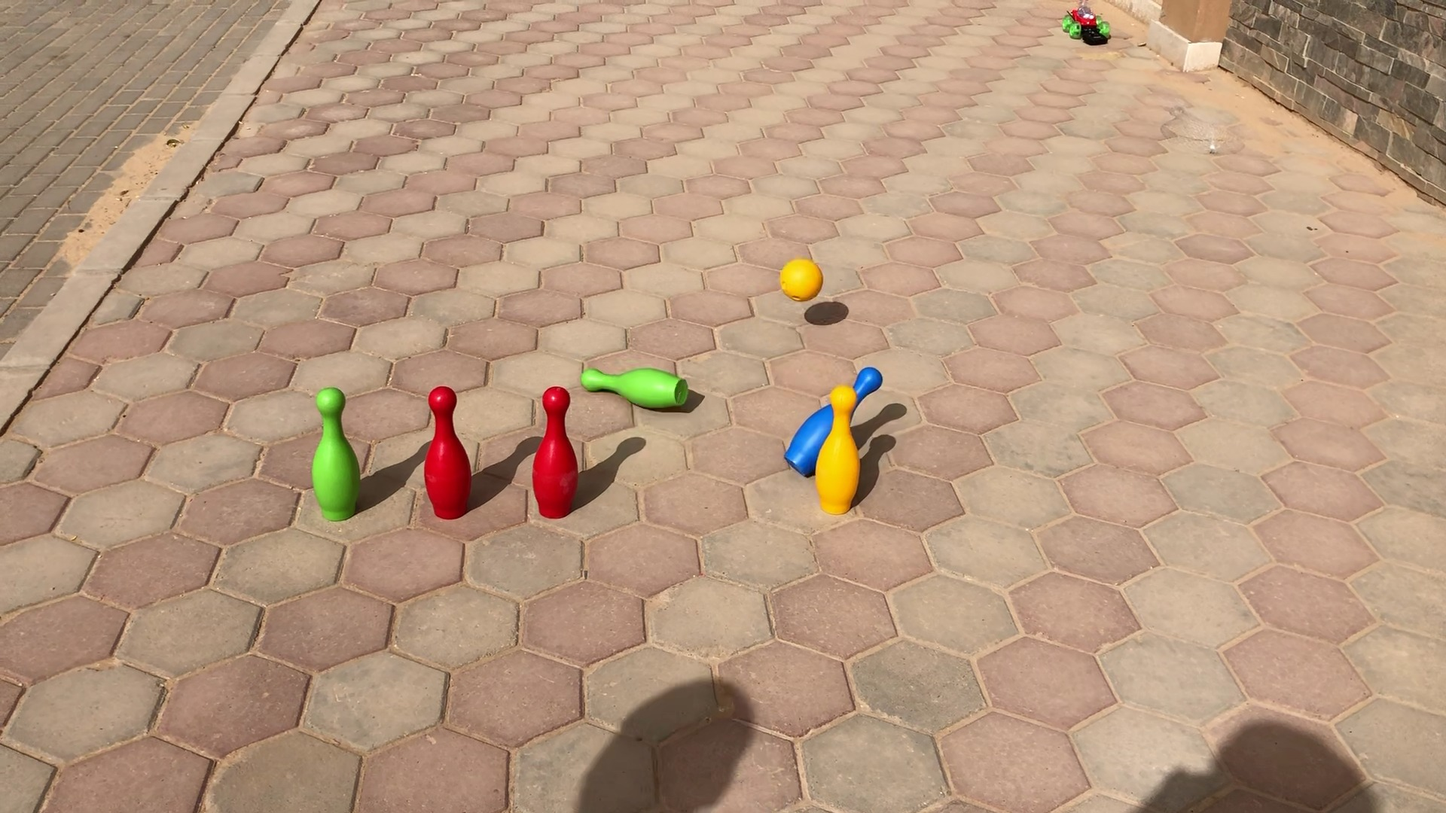bowling-pin: (794, 367, 876, 473), (422, 386, 473, 518), (309, 388, 360, 520), (810, 383, 862, 511), (533, 389, 580, 519), (583, 366, 691, 409)
